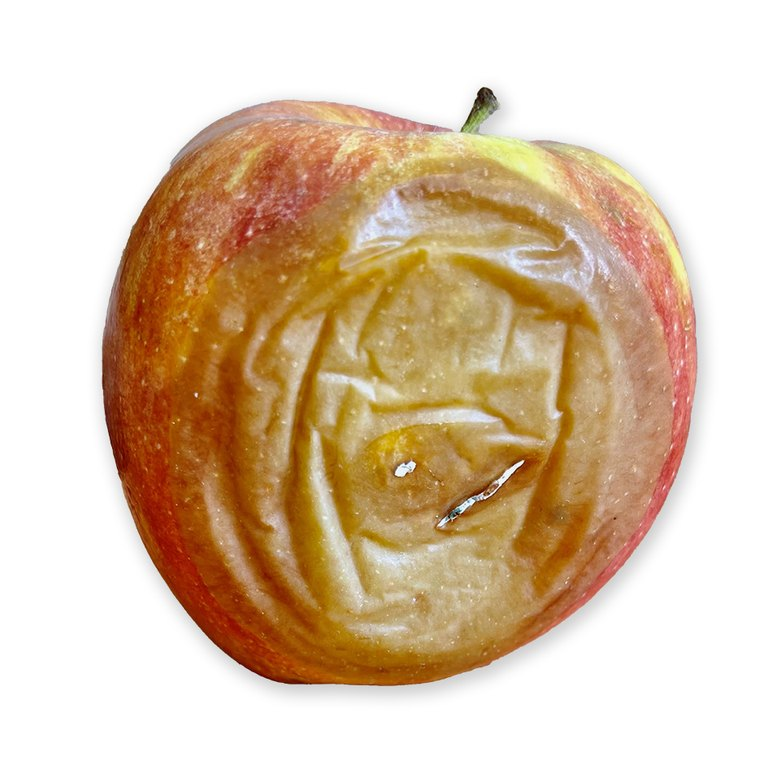Penicillium: (394, 451, 532, 536)
